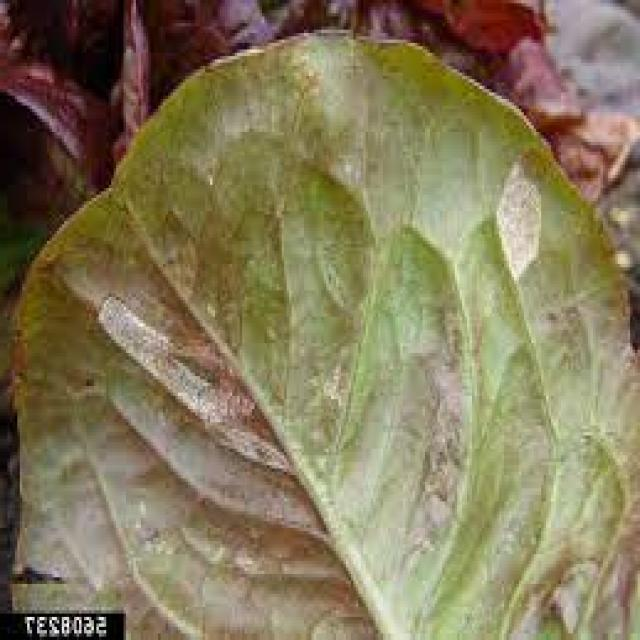Downy_mildew_on_lettuce: (119, 179, 556, 596)
